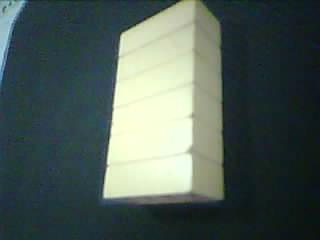lego: (100, 1, 226, 208)
